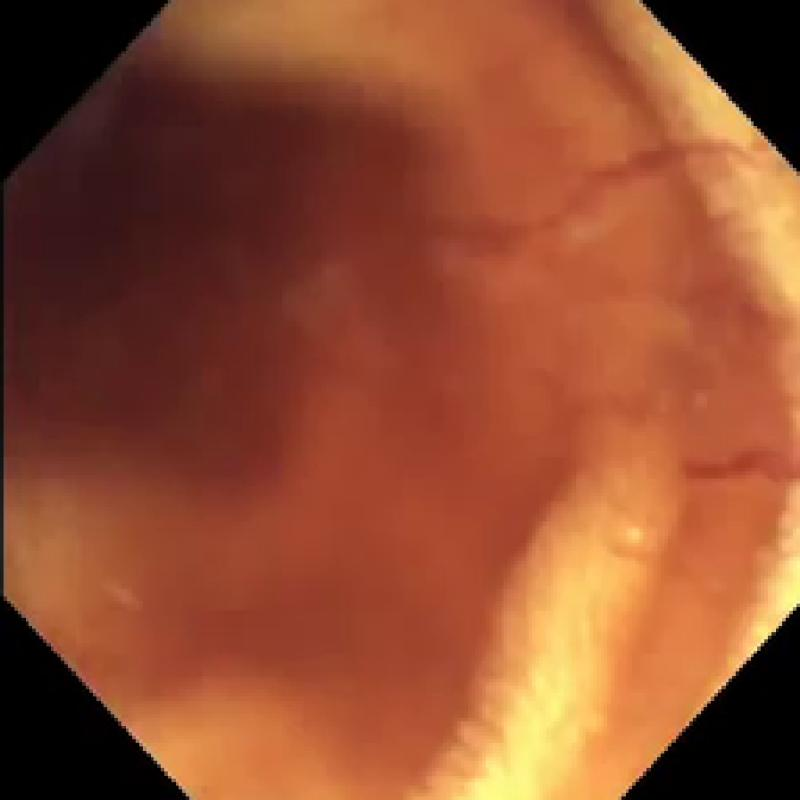bleeding: (3, 75, 793, 782)
